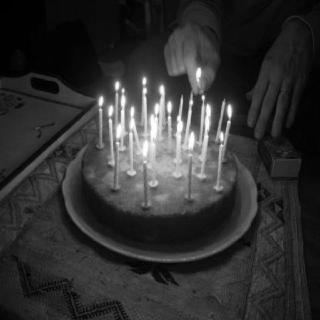Fire: (143, 138, 150, 164), (97, 90, 105, 106), (188, 98, 196, 110)
